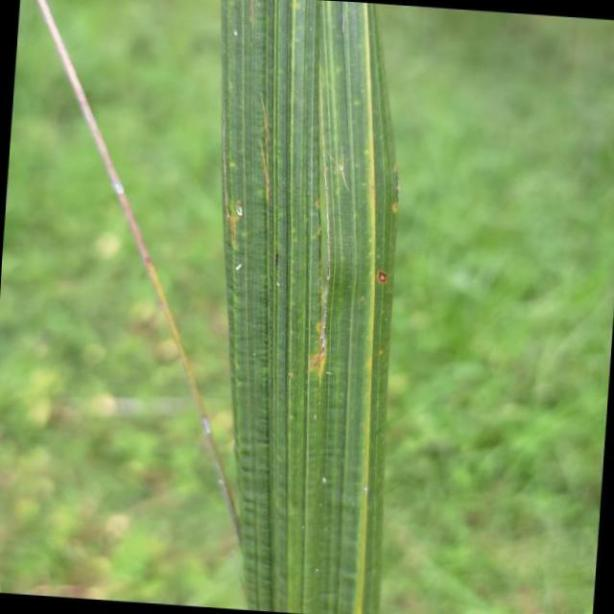Boron: (216, 0, 401, 614)
